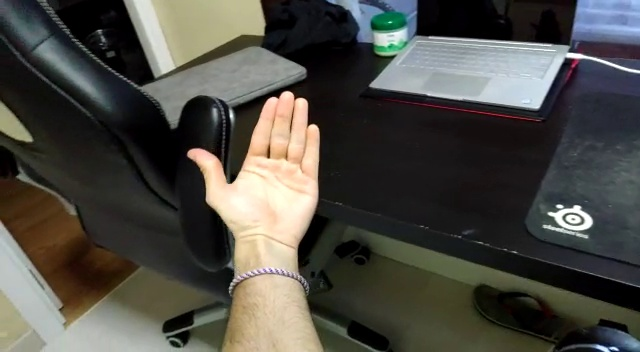Palm: (181, 88, 326, 247)
